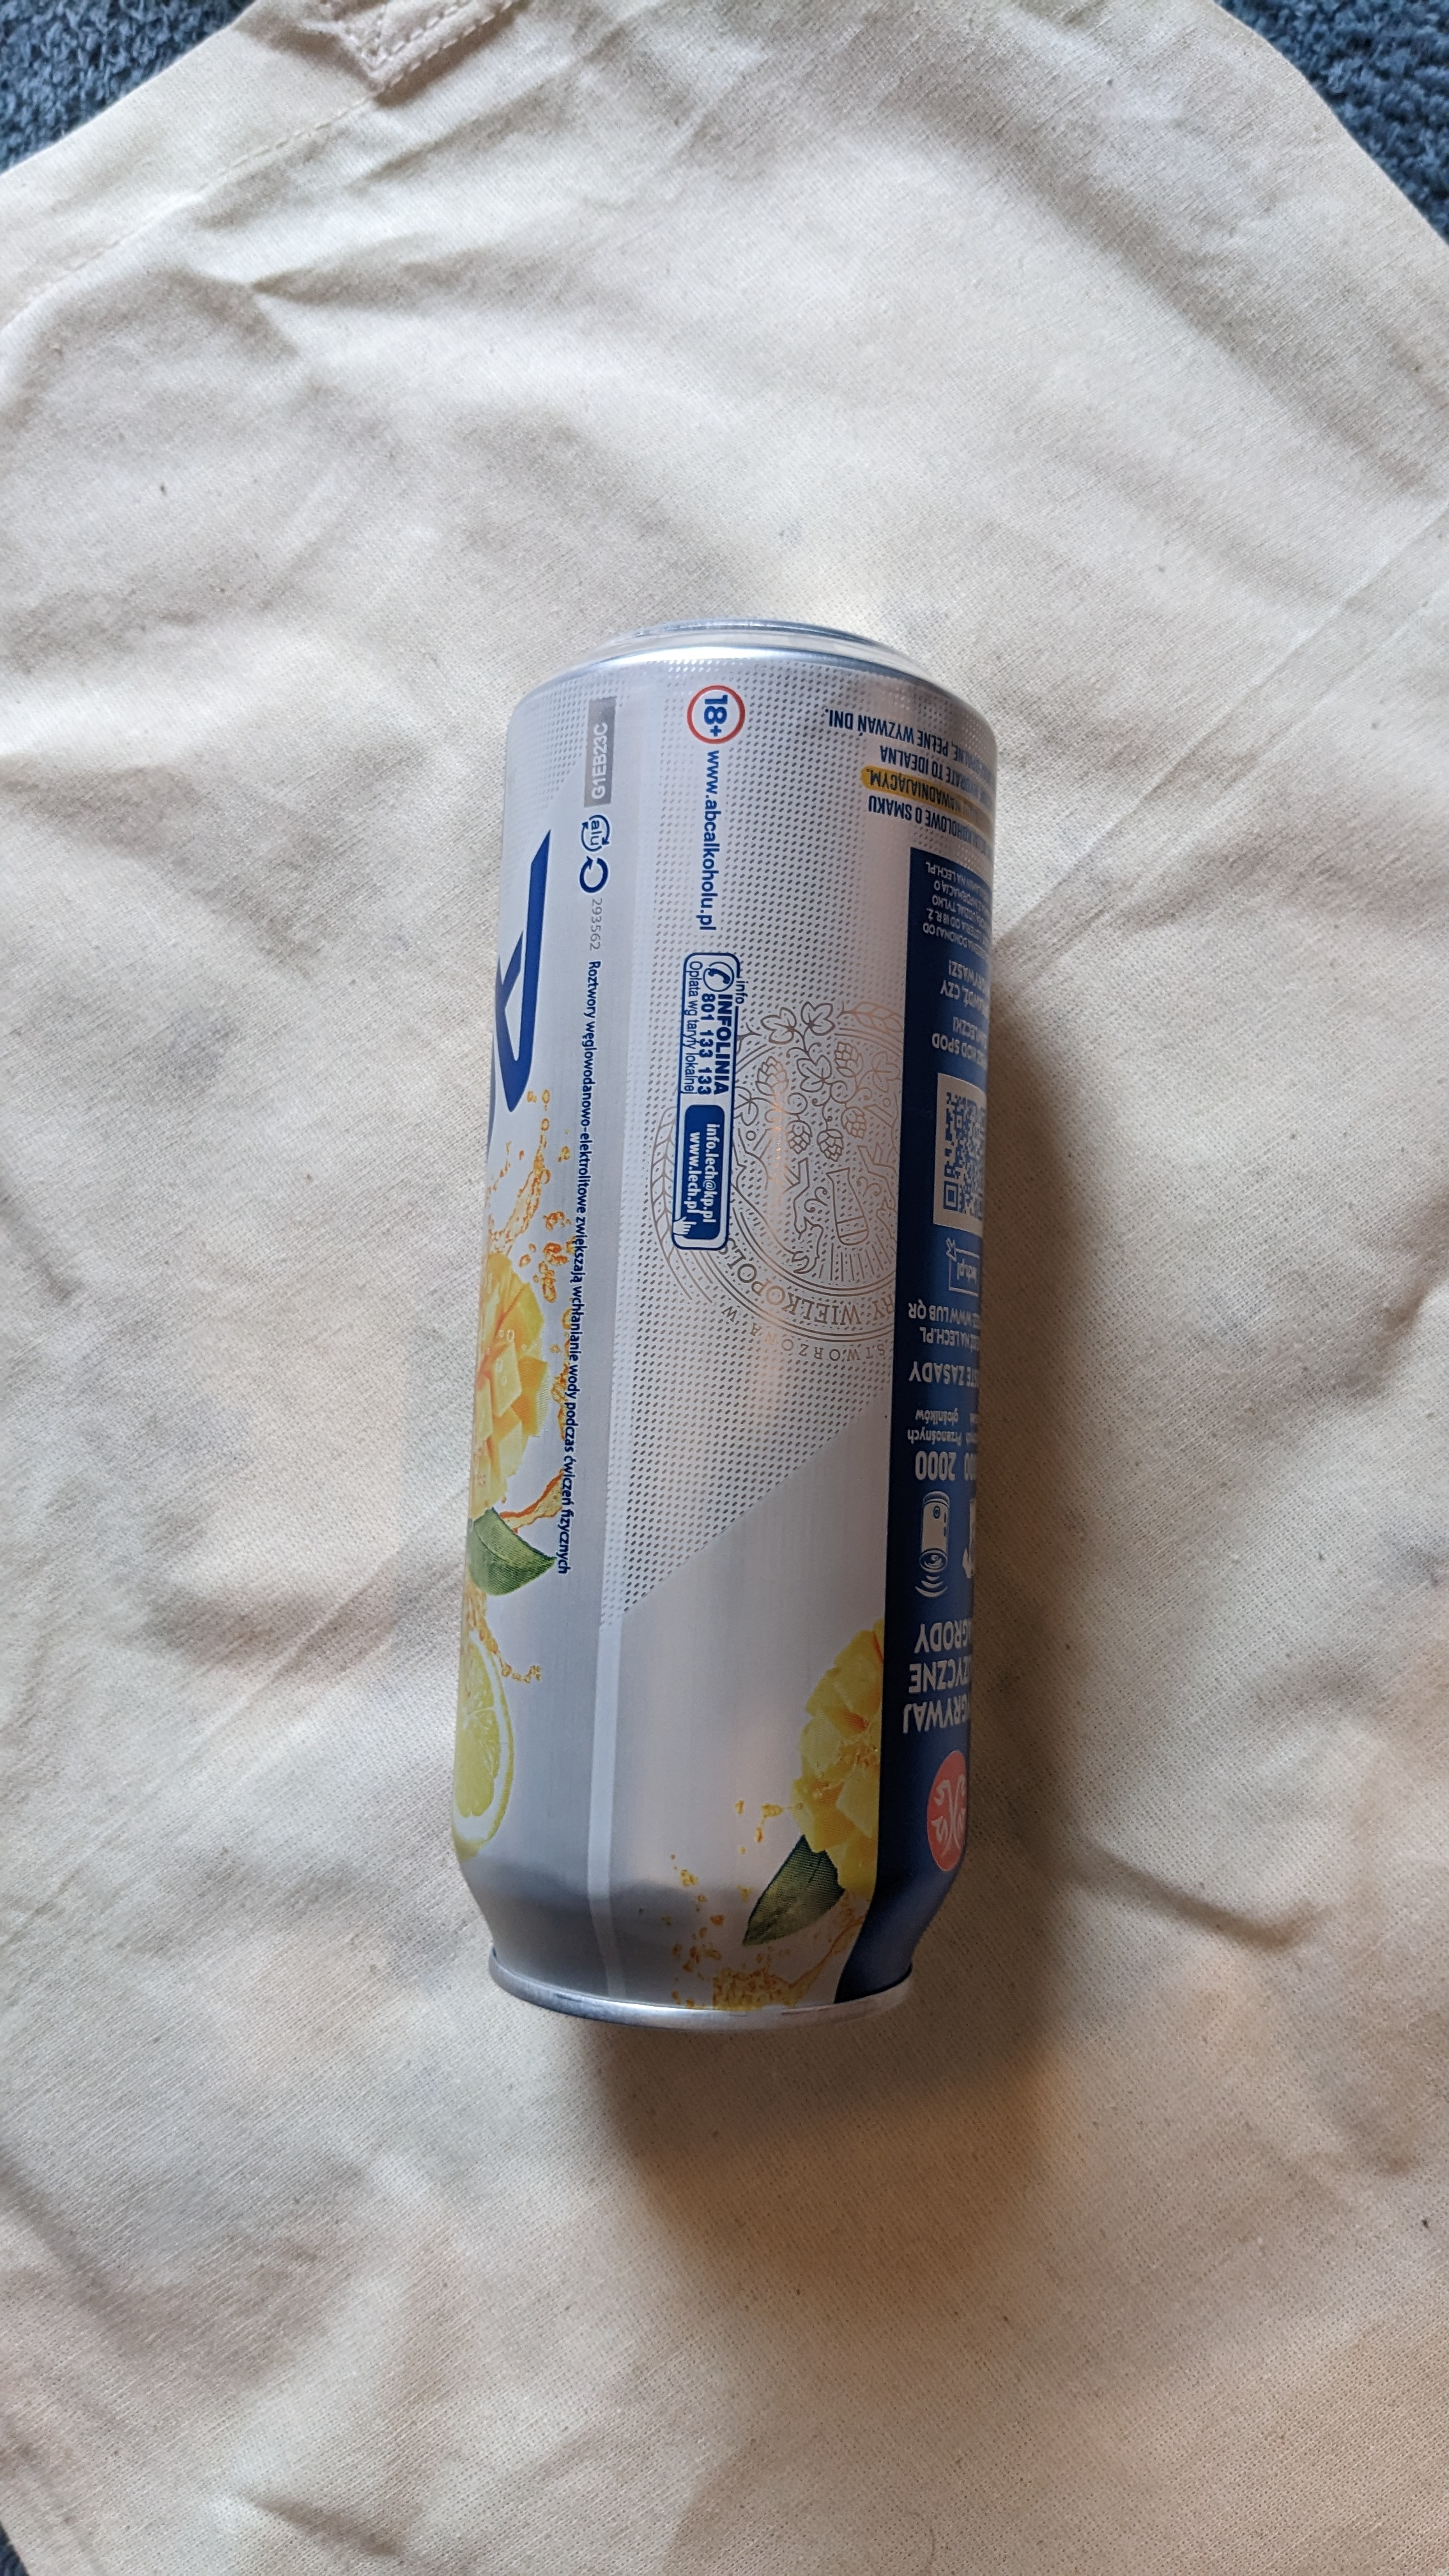lech-active: (465, 626, 1019, 2059)
